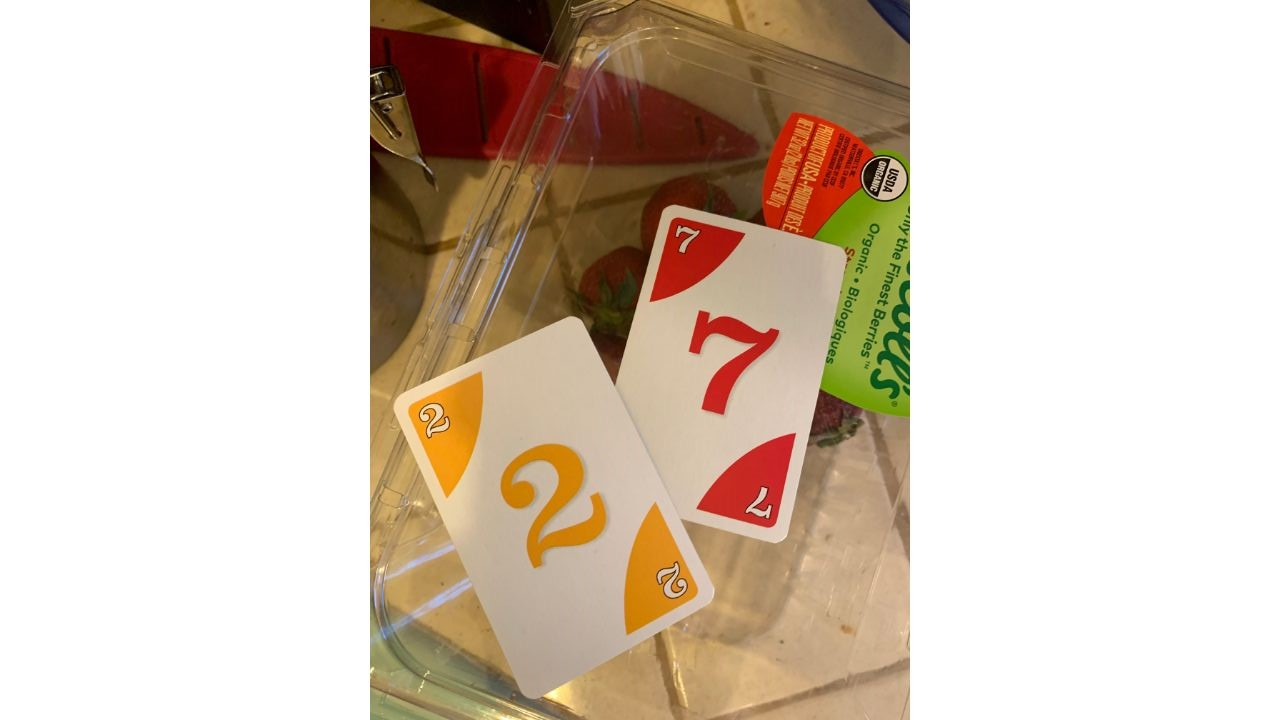seven: (592, 200, 854, 553)
two: (390, 314, 720, 702)
